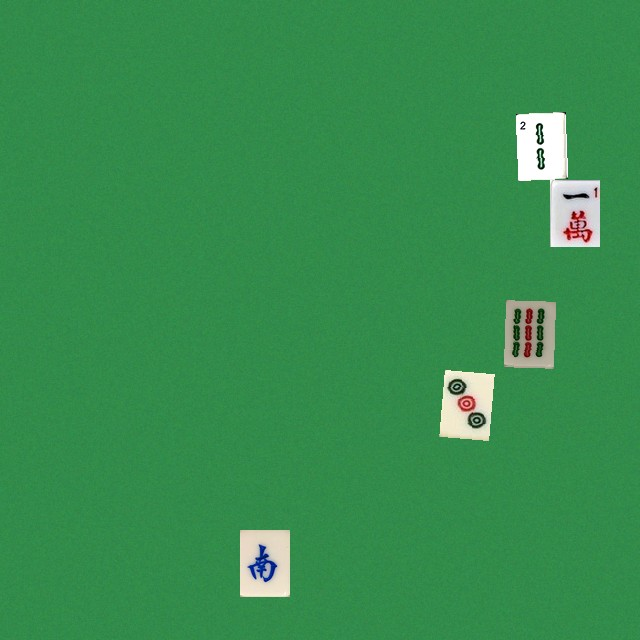tile: (239, 529, 289, 596), (549, 179, 599, 246), (439, 370, 489, 437), (503, 300, 553, 367), (515, 111, 565, 178)
